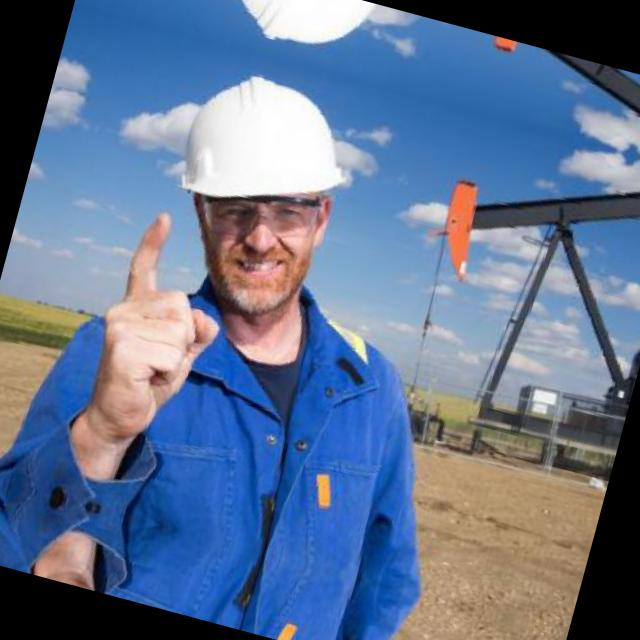helmet: (124, 43, 383, 351), (196, 0, 407, 84)
